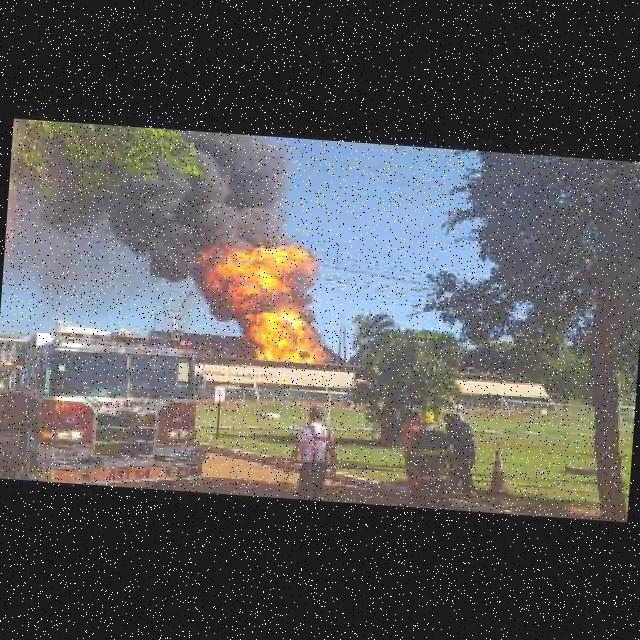Fire: (191, 226, 336, 363)
Smoke: (24, 118, 295, 248)
